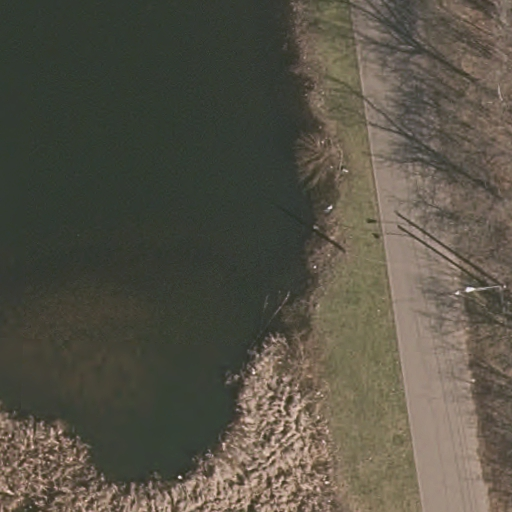DT: (439, 267, 511, 307)
